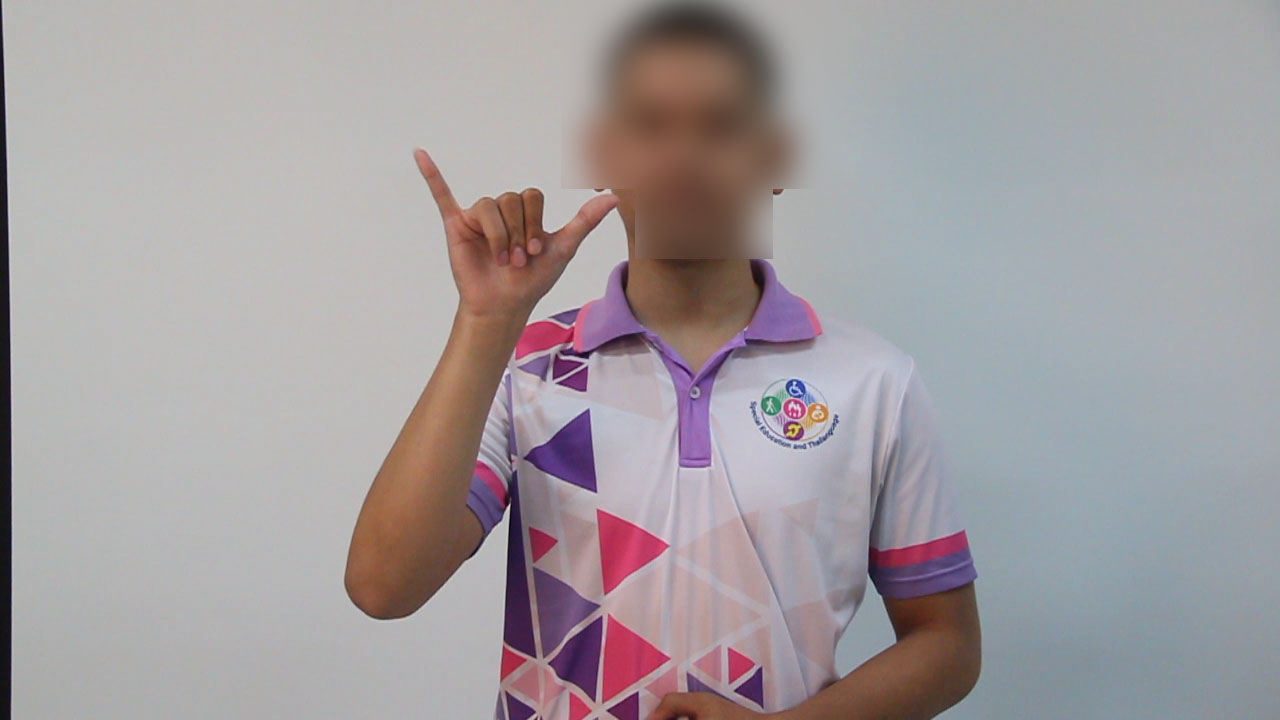yor: (400, 140, 622, 318)
